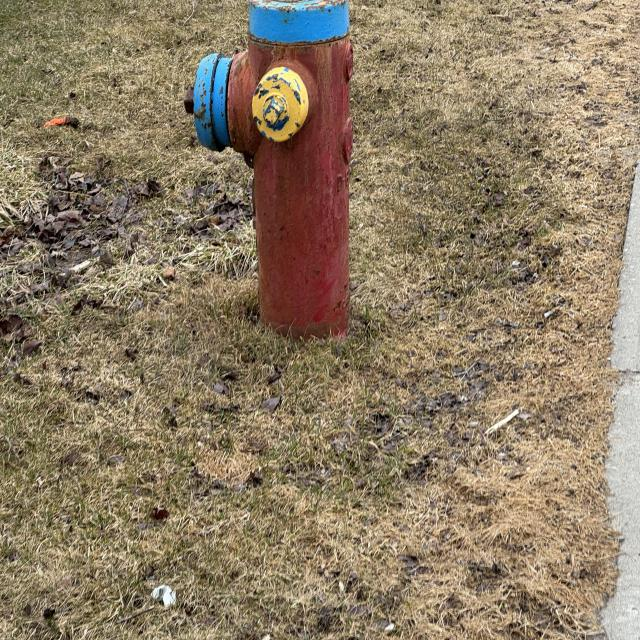Fire hydrant: (183, 1, 356, 354)
